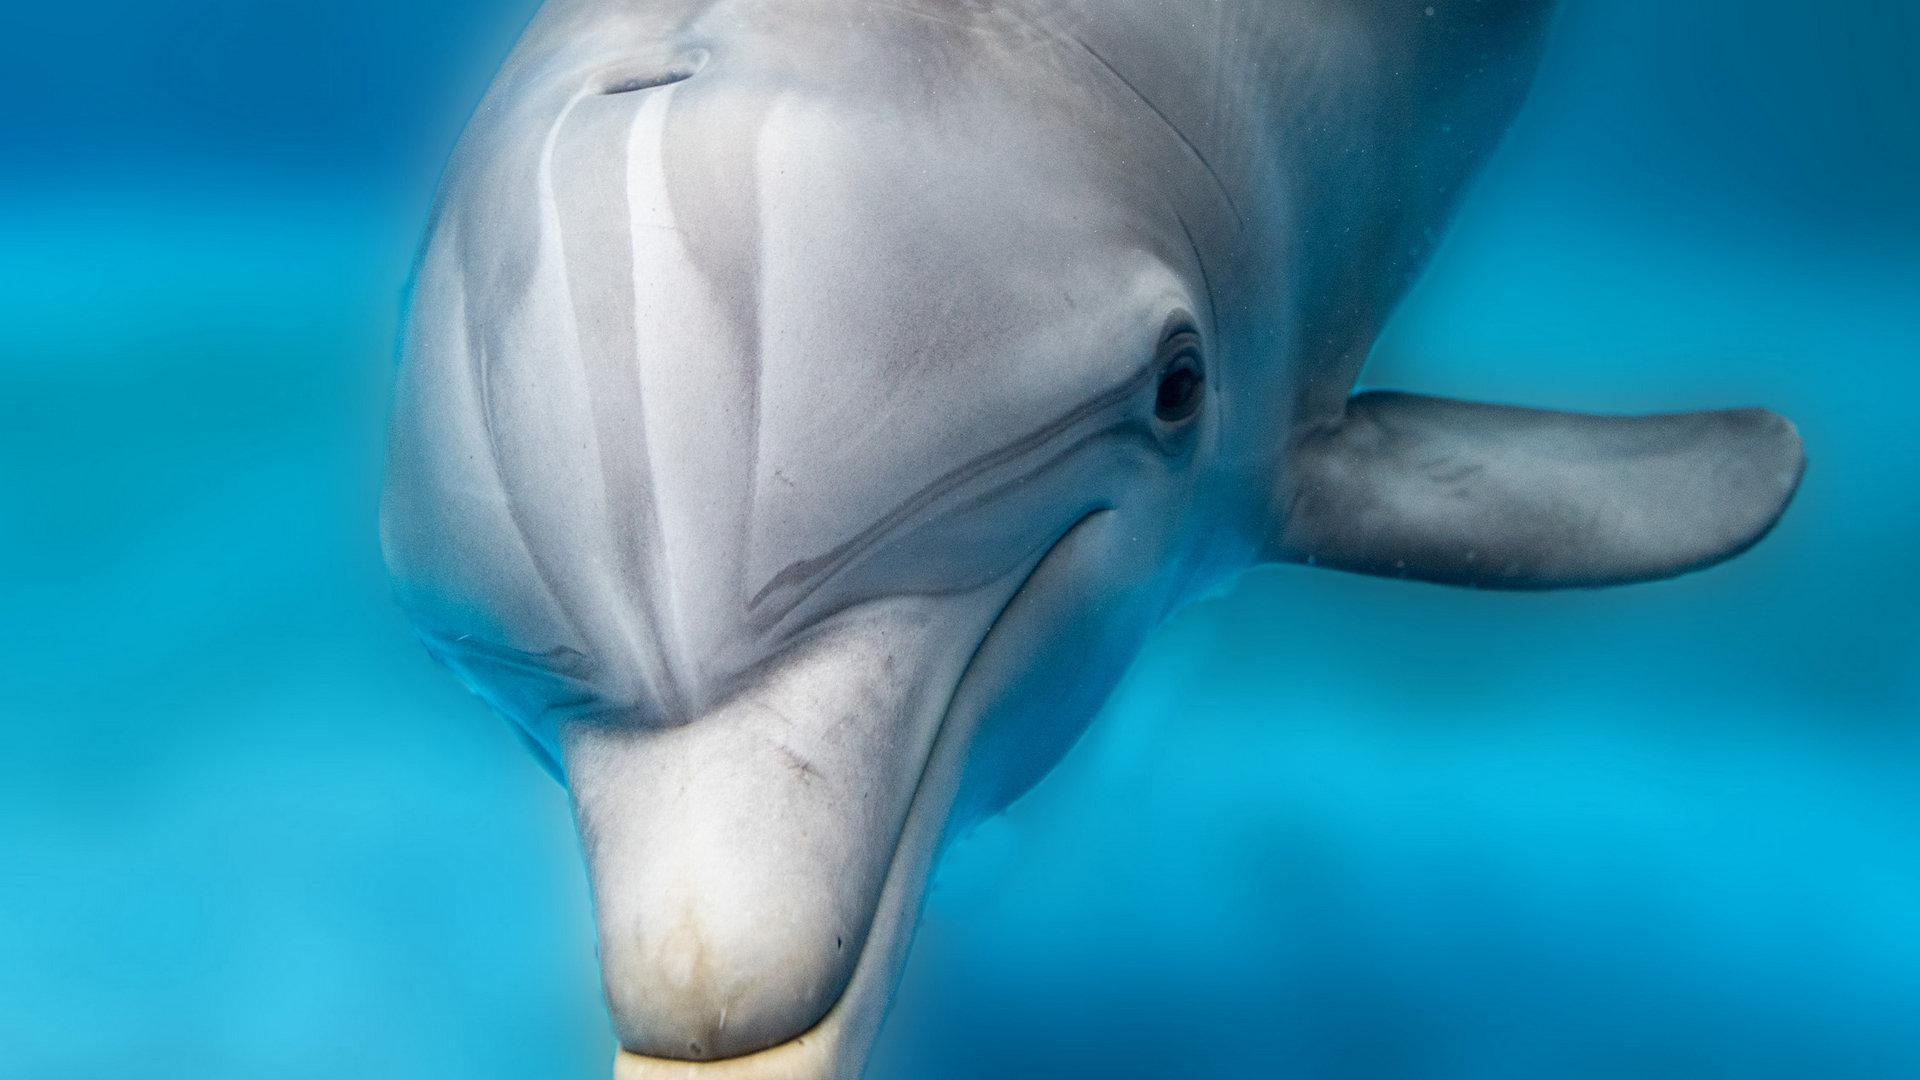fish: (380, 1, 1807, 1077)
